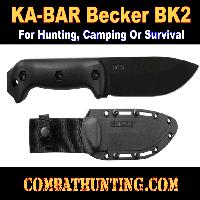knife: (5, 51, 200, 102)
